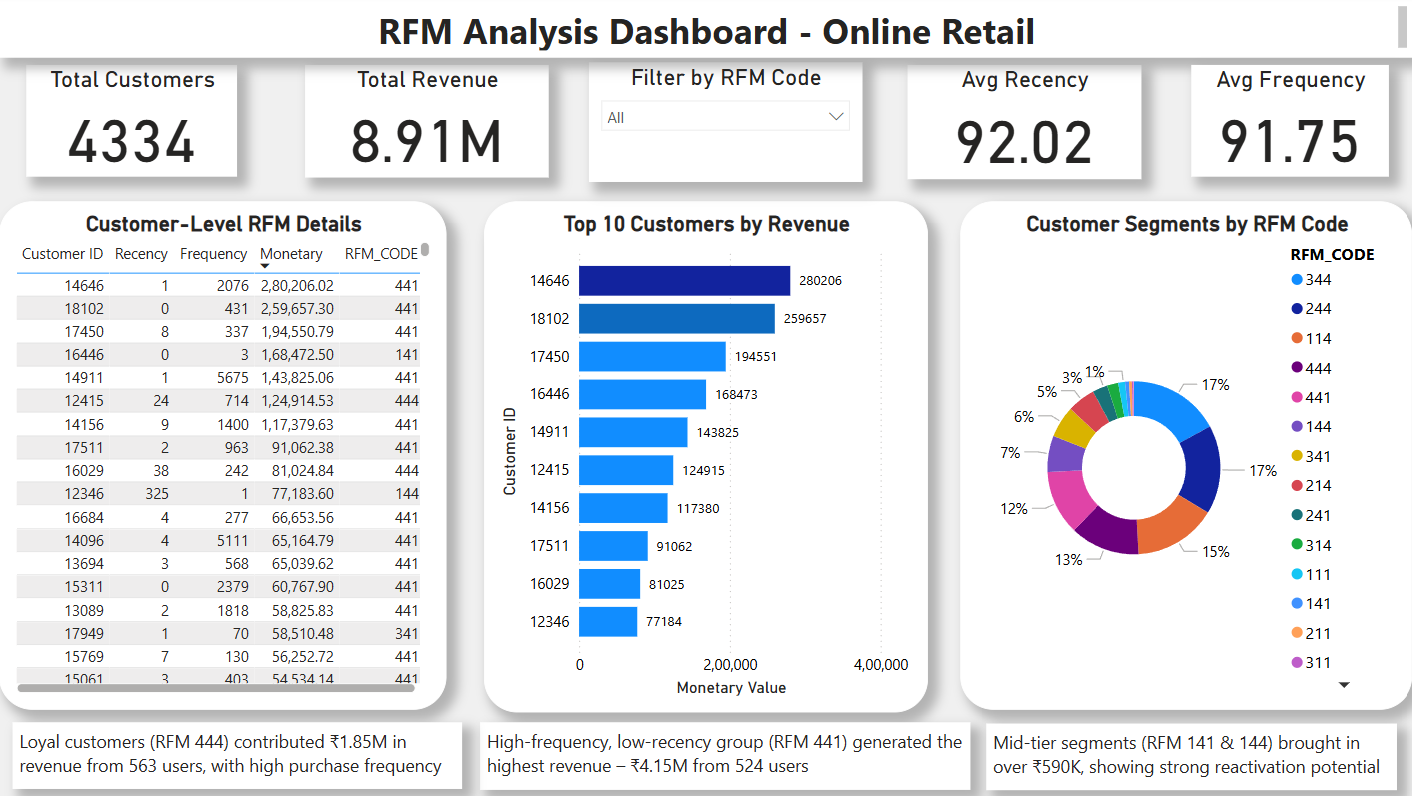

The dashboard page shown, as its layout file describes it:
{"tool":"powerbi","page":{"name":"Page 1","canvas":[1280,720],"ordinal":0},"visuals":[{"type":"card","title":"Total Customers","fields":{"Values":["CountNonNull(RFM_FINAL.Customer ID)"]},"box":[24.5,59.2,190.4,101],"z":0},{"type":"card","title":"Total Revenue","fields":{"Values":["Sum(RFM_FINAL.Monetary)"]},"box":[277.1,59.2,220.3,101.9],"z":1000},{"type":"card","title":"Avg Recency","fields":{"Values":["Avg(RFM_FINAL.Recency)"]},"box":[822.2,58.7,210.9,103.1],"z":2000},{"type":"donutChart","title":" Customer Segments by RFM Code","fields":{"Category":["RFM_FINAL.RFM_CODE"],"Y":["CountNonNull(RFM_FINAL.Customer ID)"]},"box":[870,181.8,409.7,460.2],"z":3000},{"type":"clusteredBarChart","title":"Top 10 Customers by Revenue","fields":{"Category":["RFM_FINAL.Customer ID"],"Y":["Sum(RFM_FINAL.Monetary)"]},"box":[438.7,182.2,401.5,462.6],"z":4000},{"type":"tableEx","title":"Customer-Level RFM Details","fields":{"Values":["RFM_FINAL.Customer ID","RFM_FINAL.Recency","RFM_FINAL.Frequency","RFM_FINAL.Monetary","RFM_FINAL.RFM_CODE"]},"box":[0,182.2,405.1,460.2],"z":5000},{"type":"slicer","title":"Filter by RFM Code","fields":{"Values":["RFM_FINAL.RFM_CODE"]},"box":[533.3,56.3,246.9,107.9],"z":6000},{"type":"textbox","box":[0,0,1279.7,51.6],"z":7000},{"type":"card","title":"Avg Frequency","fields":{"Values":["Avg(RFM_FINAL.Frequency)"]},"box":[1078.7,58.7,178.6,100.7],"z":8000},{"type":"textbox","box":[435.1,653.2,443.4,61.1],"z":9000},{"type":"textbox","box":[892.9,654.4,371.5,59.9],"z":10000},{"type":"textbox","box":[12,653.2,406.3,59.9],"z":11000}]}

Visuals, with their boxes in screenshot pixels (x1, y1, x2, y2), scaled from the page's 1280x720 canvas onto the 1412x796 screenshot:
"Total Customers" card: bbox=(27, 65, 237, 177)
"Total Revenue" card: bbox=(306, 65, 549, 178)
"Avg Recency" card: bbox=(907, 65, 1140, 179)
" Customer Segments by RFM Code" donutChart: bbox=(960, 201, 1411, 710)
"Top 10 Customers by Revenue" clusteredBarChart: bbox=(484, 201, 927, 713)
"Customer-Level RFM Details" tableEx: bbox=(0, 201, 447, 710)
"Filter by RFM Code" slicer: bbox=(588, 62, 861, 182)
textbox: bbox=(0, 0, 1411, 57)
"Avg Frequency" card: bbox=(1190, 65, 1387, 176)
textbox: bbox=(480, 722, 969, 790)
textbox: bbox=(985, 723, 1395, 790)
textbox: bbox=(13, 722, 461, 788)
